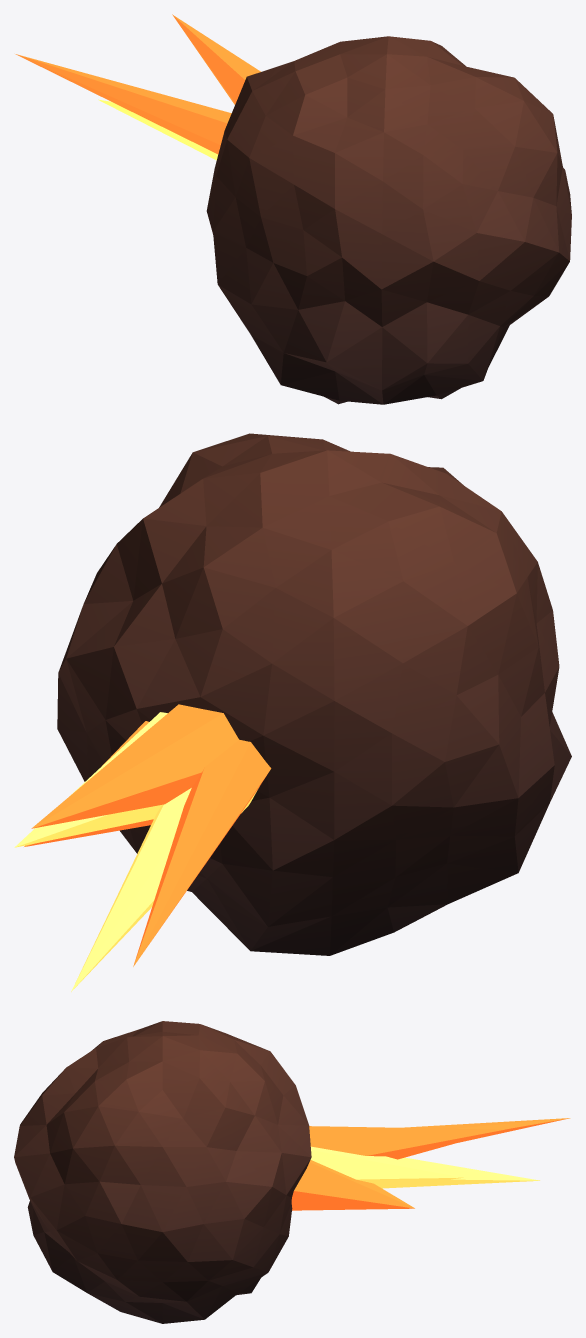
The model's file is proj_meteor.glb.
3 renders of one model, top to bottom at view 1: azimuth 30°, elevation 25°; view 2: azimuth 150°, elevation 25°; view 3: azimuth 270°, elevation 25°, orthographic. The views are drawn at different scales.
Parts seen in each view (by area): view 1: proj_meteor; view 2: proj_meteor; view 3: proj_meteor.
Boxes of the visible parts, <box> form: proj_meteor: <box>15,14,571,404</box>; proj_meteor: <box>14,433,571,991</box>; proj_meteor: <box>14,1021,570,1323</box>.
Bounding box in the file's own units: 1.51 × 1.47 × 2.75.
